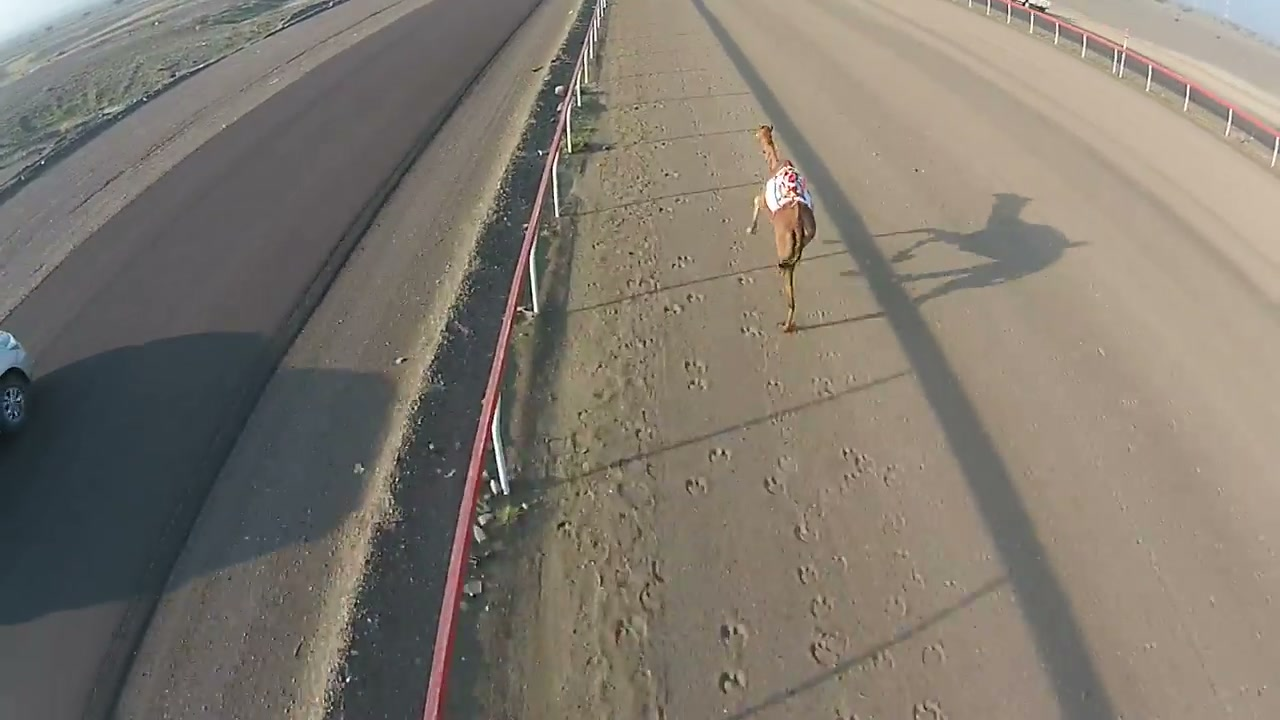animal_footprint: (728, 290, 913, 671), (631, 178, 766, 697)
